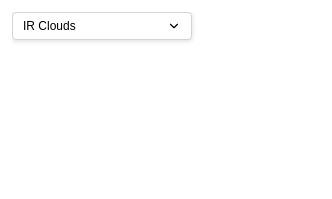
Scenario: MultiSelectComposite › closes on Escape
Click the button: (102, 26) [12,12,192,40]
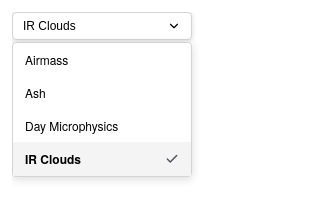
Result: the text "Airmass" is shown at [25,51,68,68]
Press Escape
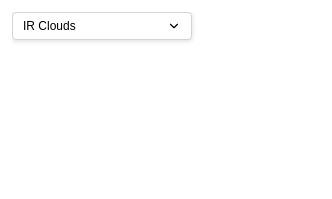
Result: the text "Airmass" is gone
